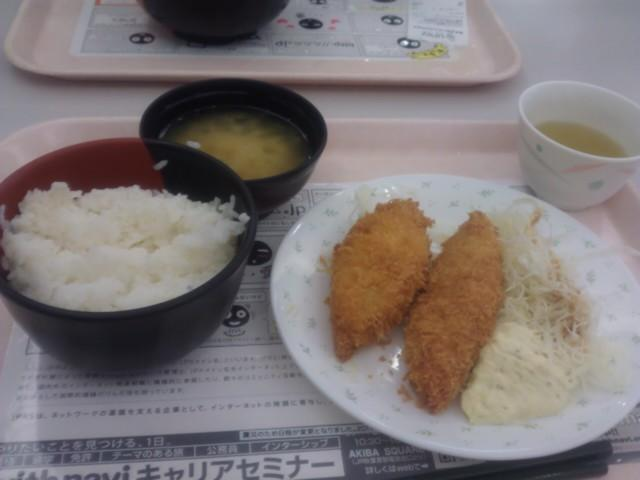rice: (4, 184, 248, 310)
